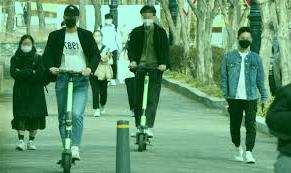nonhelmet: (43, 4, 100, 173), (127, 4, 171, 150)
